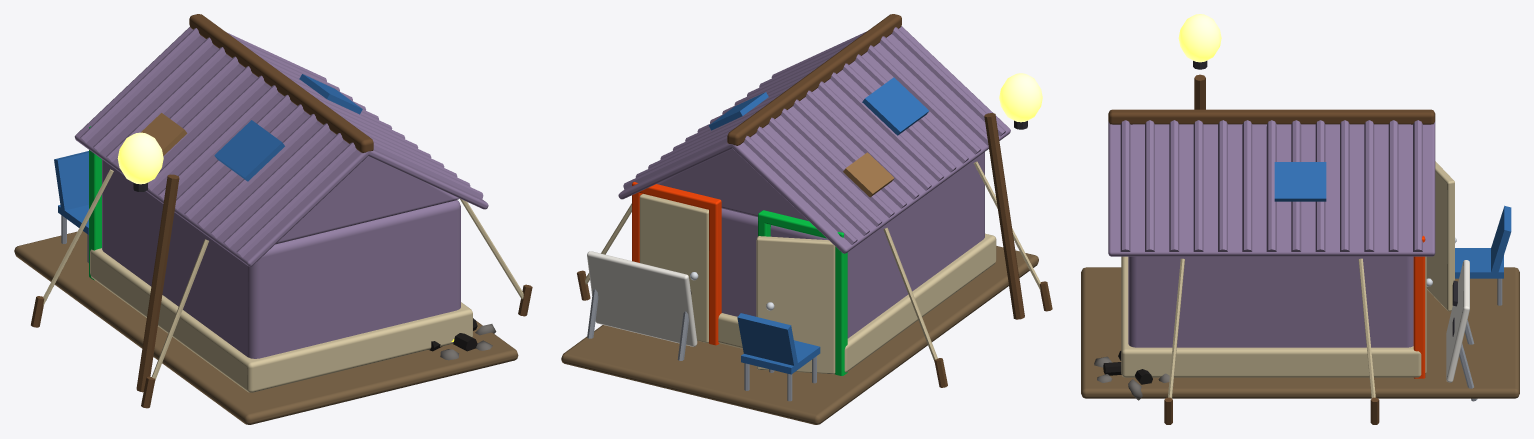
The model's file is building_research_center_t1.glb.
3 views of the same model, side by side, from view 1: azimuth 30°, elevation 25°; view 2: azimuth 150°, elevation 25°; view 3: azimuth 270°, elevation 25° (orthographic). The views are drawn at different scales.
Parts seen in each view (by area): view 1: Walls, Lot, RoofL.Ridge, RoofL.Sheet, Skirt, Attic, RoofR.Ridge, Roof.Ridge, Idea.Pole, Patch0, Idea.Bulb, Chair.Back (+7 smaller); view 2: Lot, Walls, RoofL.Ridge, RoofL.Sheet, Entry.Leaf, Board, Exit.Leaf, Skirt, Attic, RoofR.Ridge, Roof.Ridge, Idea.Pole (+14 smaller); view 3: RoofR.Sheet, Walls, Lot, RoofR.Ridge, Skirt, Roof.Ridge, Entry.Leaf, Patch2, Board, Idea.Bulb, Exit.Jamb.001, Chair.Seat (+5 smaller).
Boxes of the visible parts, x1=… form: Walls: x1=102, y1=159, x2=460, y2=358; Lot: x1=14, y1=231, x2=518, y2=424; RoofL.Ridge: x1=80, y1=28, x2=356, y2=257; RoofL.Sheet: x1=74, y1=27, x2=368, y2=266; Skirt: x1=90, y1=248, x2=472, y2=392; Attic: x1=199, y1=35, x2=459, y2=244; RoofR.Ridge: x1=226, y1=32, x2=483, y2=198; Roof.Ridge: x1=189, y1=14, x2=373, y2=152; Idea.Pole: x1=136, y1=174, x2=179, y2=392; Patch0: x1=214, y1=120, x2=284, y2=181; Idea.Bulb: x1=117, y1=132, x2=163, y2=184; Chair.Back: x1=54, y1=151, x2=88, y2=210; Lot: x1=561, y1=246, x2=1038, y2=424; Walls: x1=721, y1=152, x2=984, y2=338; RoofL.Ridge: x1=743, y1=27, x2=1005, y2=244; RoofL.Sheet: x1=732, y1=26, x2=1010, y2=253; Entry.Leaf: x1=756, y1=236, x2=835, y2=374; Board: x1=587, y1=251, x2=697, y2=346; Exit.Leaf: x1=639, y1=194, x2=708, y2=342; Skirt: x1=718, y1=233, x2=996, y2=372; Attic: x1=657, y1=34, x2=892, y2=220; RoofR.Ridge: x1=623, y1=31, x2=866, y2=189; Roof.Ridge: x1=727, y1=14, x2=901, y2=145; Idea.Pole: x1=984, y1=113, x2=1024, y2=319; RoofR.Sheet: x1=1108, y1=121, x2=1435, y2=256; Walls: x1=1128, y1=256, x2=1413, y2=347; Lot: x1=1081, y1=267, x2=1519, y2=398; RoofR.Ridge: x1=1120, y1=120, x2=1422, y2=251; Skirt: x1=1121, y1=256, x2=1421, y2=377; Roof.Ridge: x1=1108, y1=109, x2=1435, y2=124; Entry.Leaf: x1=1426, y1=161, x2=1454, y2=311; Patch2: x1=1274, y1=162, x2=1326, y2=201; Board: x1=1446, y1=260, x2=1469, y2=382; Idea.Bulb: x1=1178, y1=14, x2=1221, y2=62; Exit.Jamb.001: x1=1413, y1=256, x2=1425, y2=378; Chair.Seat: x1=1455, y1=248, x2=1503, y2=278.
Bounding box in the file's own units: 2.97 × 1.88 × 3.06.
